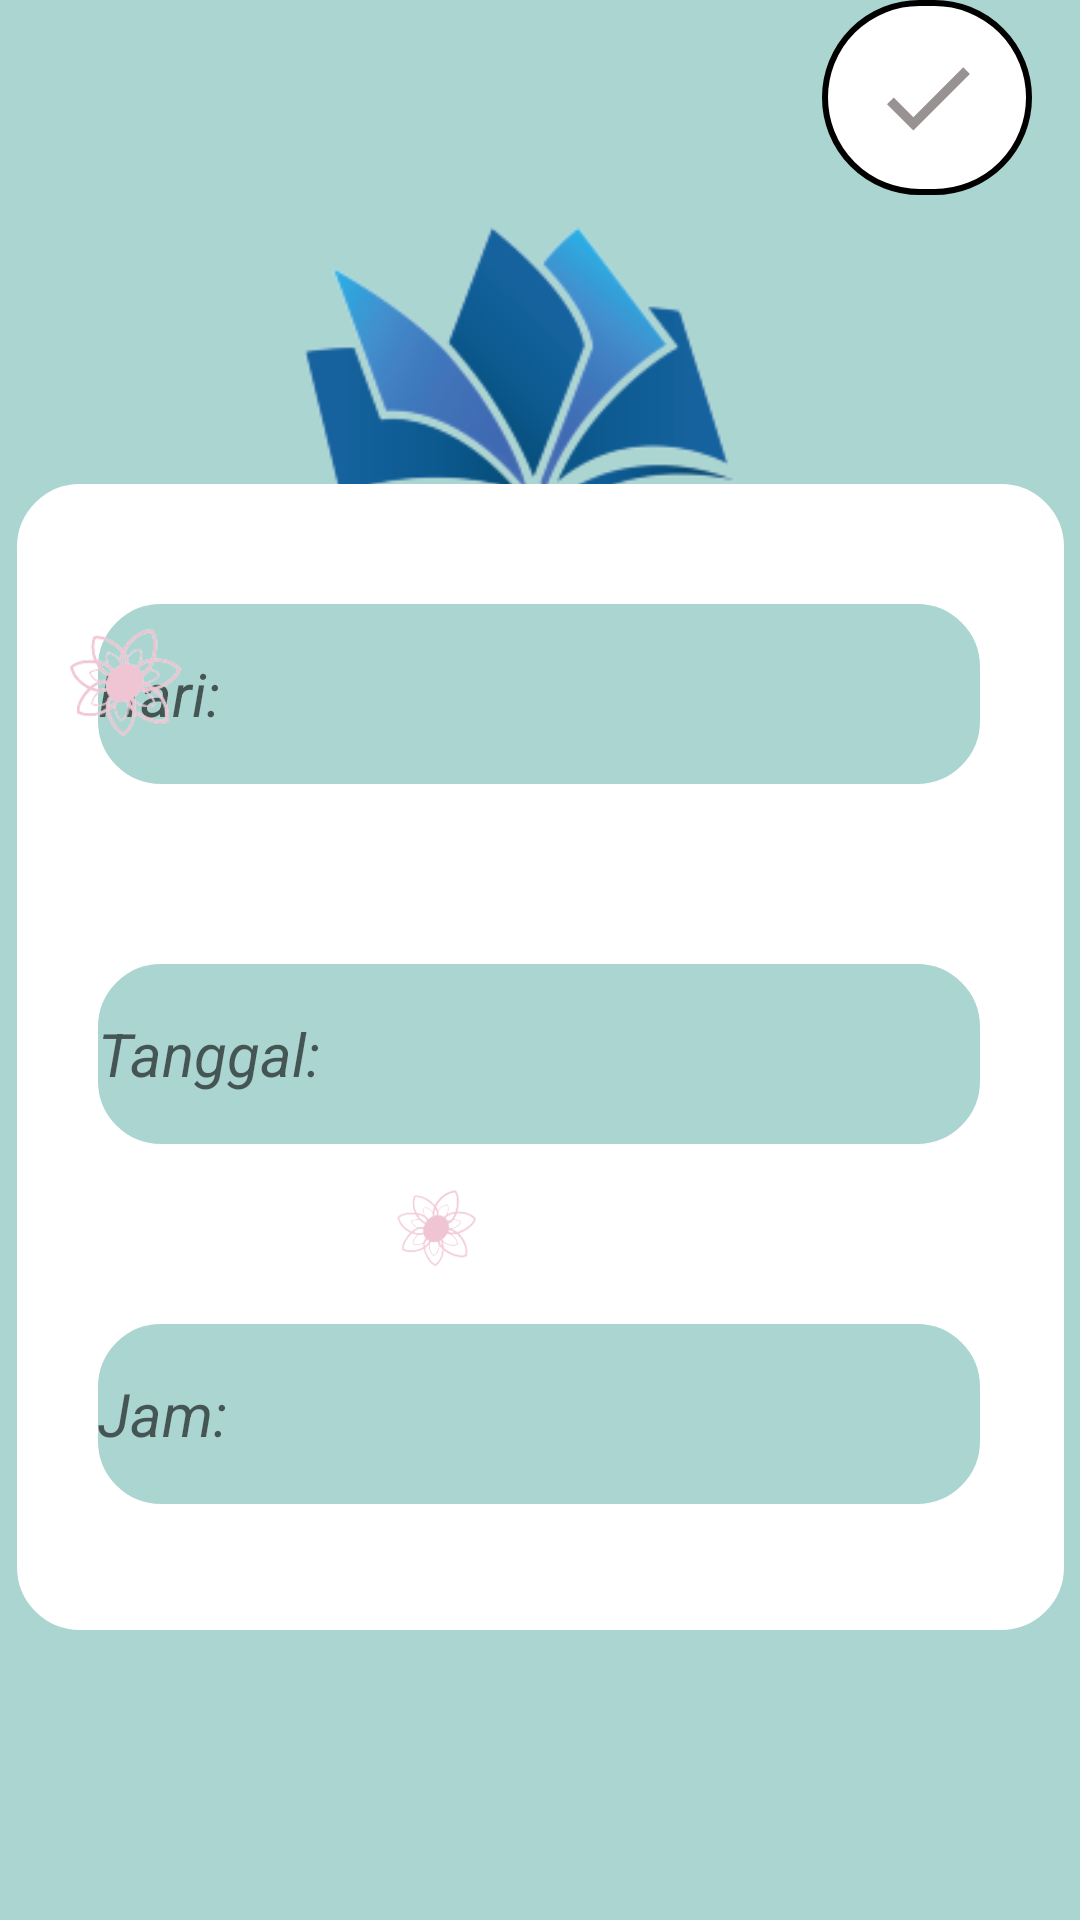

Screen size 1080px x 1920px. Icon name, then its center in pixels as (x=x, y=y):
centang: (x=927, y=97)
